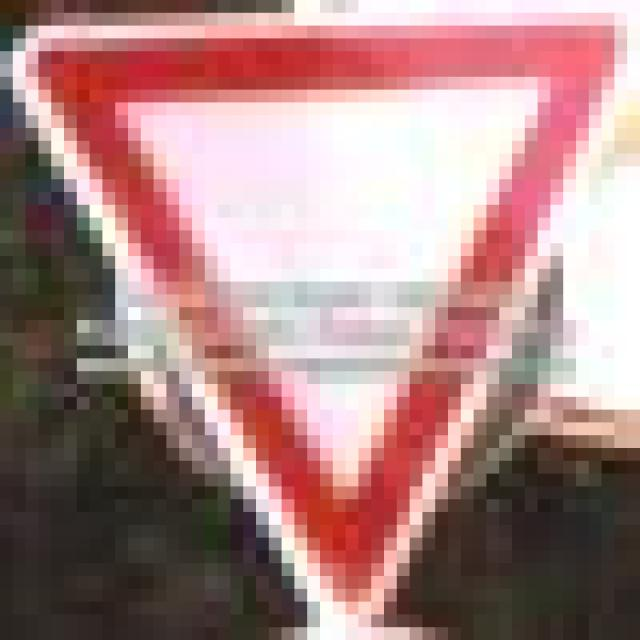gap_in_median: (0, 0, 627, 627)
